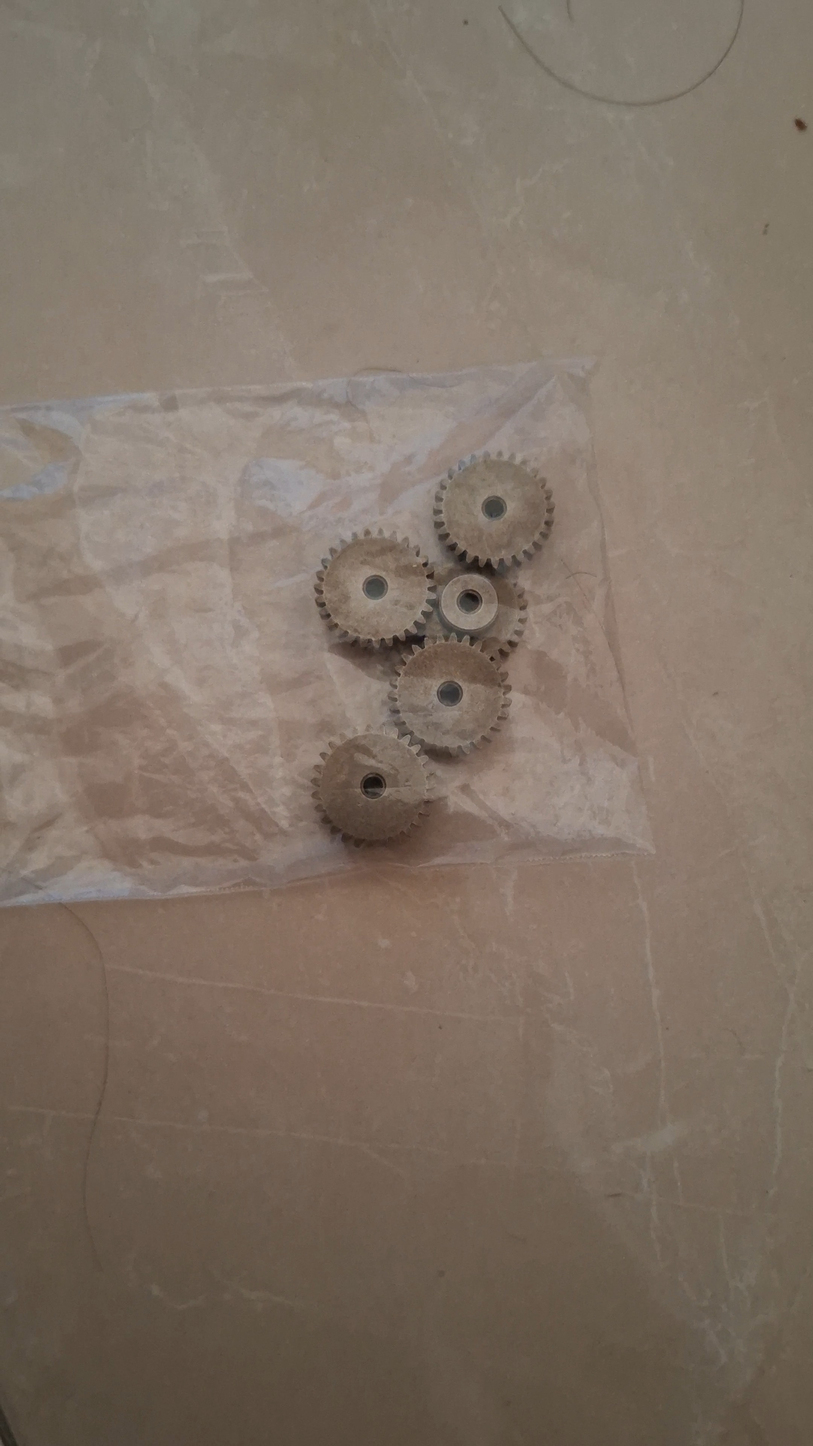spur gear: (434, 453, 554, 570), (315, 531, 434, 648), (390, 638, 509, 754), (313, 729, 429, 844), (421, 564, 527, 656)
